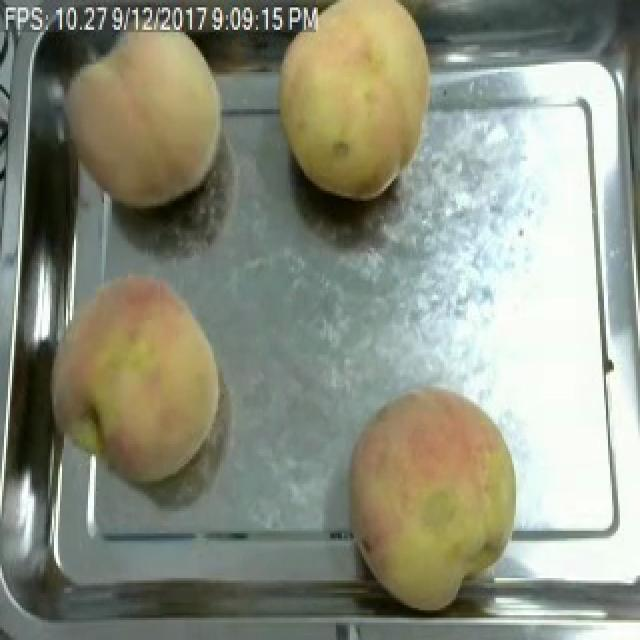Fruit: (336, 380, 530, 620), (34, 258, 230, 491), (52, 10, 236, 218), (264, 0, 444, 208)
